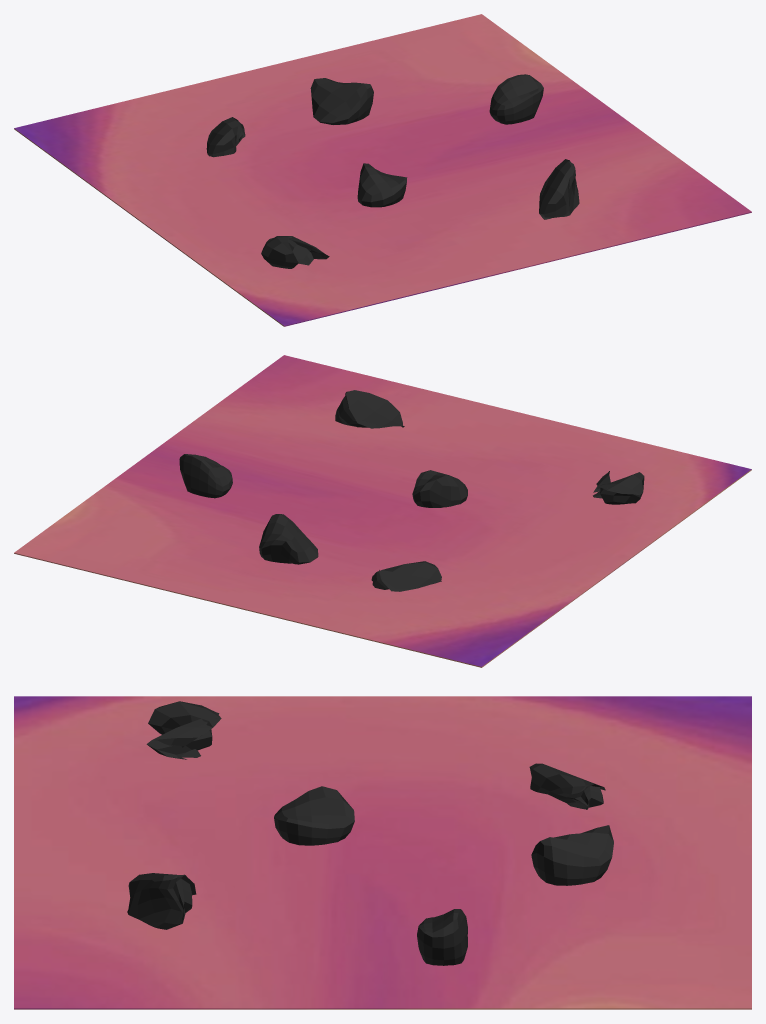
Rendered from Lava 1.fbx.
3 renders of one model, top to bottom at view 1: azimuth 30°, elevation 25°; view 2: azimuth 150°, elevation 25°; view 3: azimuth 270°, elevation 25°, orthographic. The views are drawn at different scales.
Visible parts, largest first — view 1: Cube.006, Cube.001, Cube.003, Cube, Cube.002, Cube.005, Cube.004; view 2: Cube.006, Cube.001, Cube, Cube.003, Cube.002, Cube.004, Cube.005; view 3: Cube.006, Cube.001, Cube.002, Cube.005, Cube, Cube.003, Cube.004.
Part boxes in pixels (box(x1,y1,x2,y2)): Cube.006: box(14, 14, 751, 326); Cube.001: box(310, 78, 373, 124); Cube.003: box(489, 74, 543, 124); Cube: box(539, 159, 579, 219); Cube.002: box(357, 163, 407, 207); Cube.005: box(261, 236, 329, 268); Cube.004: box(206, 117, 245, 157); Cube.006: box(14, 355, 751, 667); Cube.001: box(259, 514, 318, 564); Cube: box(335, 390, 404, 428); Cube.003: box(179, 454, 232, 498); Cube.002: box(412, 470, 467, 507); Cube.004: box(371, 561, 441, 591); Cube.005: box(593, 471, 644, 504); Cube.006: box(14, 696, 751, 1009); Cube.001: box(531, 825, 613, 885); Cube.002: box(274, 786, 354, 845); Cube.005: box(146, 701, 221, 759); Cube: box(127, 873, 196, 929); Cube.003: box(417, 909, 467, 965); Cube.004: box(529, 763, 605, 809).
Bounding box in the file's own units: 100000 × 10819 × 100000.
